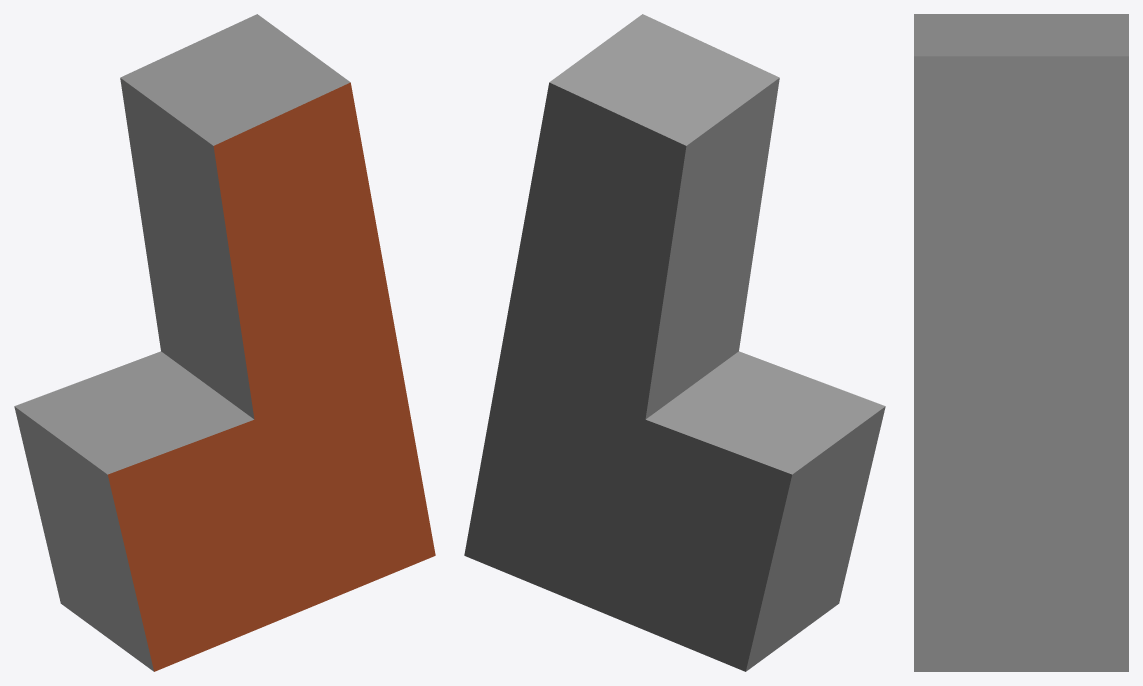
Rendered from construction_5461_assumed_A_Casa_h6m.obj.
The picture shows the model from 3 angles, left to right: view 1: azimuth 30°, elevation 25°; view 2: azimuth 150°, elevation 25°; view 3: azimuth 270°, elevation 25°; orthographic projection. The views are drawn at different scales.
Visible parts, largest first — view 1: construction_5461_assumed_A_Casa; view 2: construction_5461_assumed_A_Casa; view 3: construction_5461_assumed_A_Casa.
Boxes of the visible parts, x1=… form: construction_5461_assumed_A_Casa: x1=14, y1=14, x2=435, y2=671; construction_5461_assumed_A_Casa: x1=464, y1=14, x2=885, y2=671; construction_5461_assumed_A_Casa: x1=914, y1=14, x2=1128, y2=671.
Size of the model in its own units: 12.16 by 19.19 by 6.
